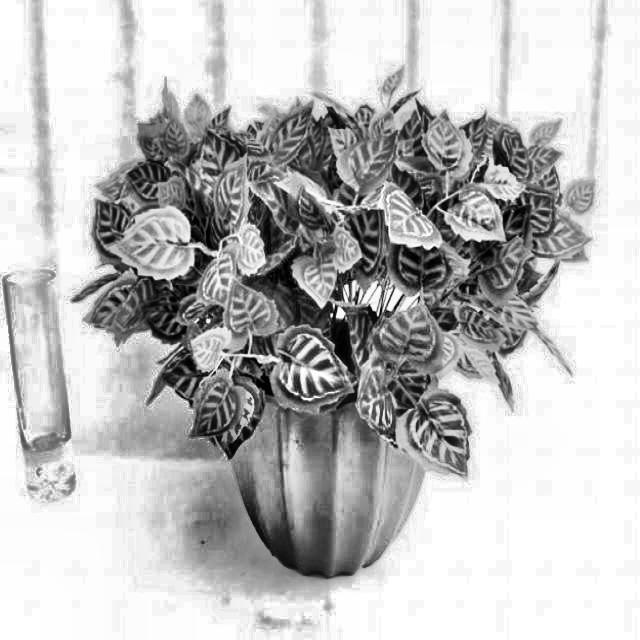plants: (77, 72, 596, 581)
